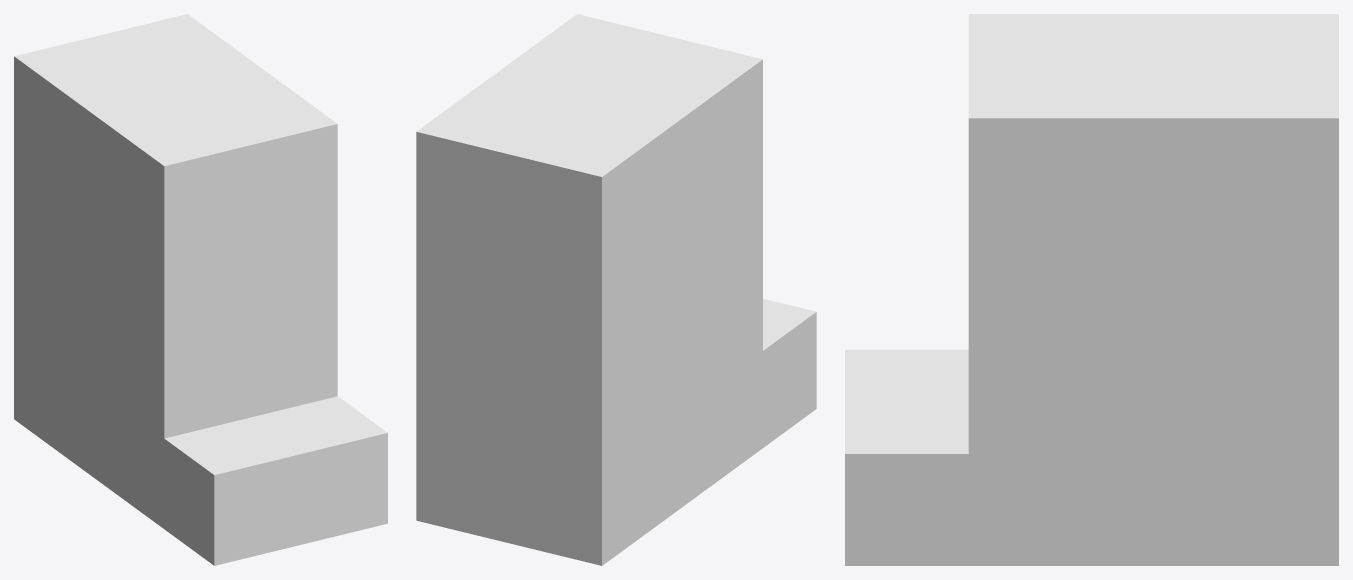
File: main_model-4.obj
3 views of the same model, side by side, from view 1: azimuth 30°, elevation 25°; view 2: azimuth 150°, elevation 25°; view 3: azimuth 270°, elevation 25° (orthographic). The views are drawn at different scales.
Bounding box in the file's own units: 0.2 × 0.4 × 0.4.
1 material, 1 textured.
